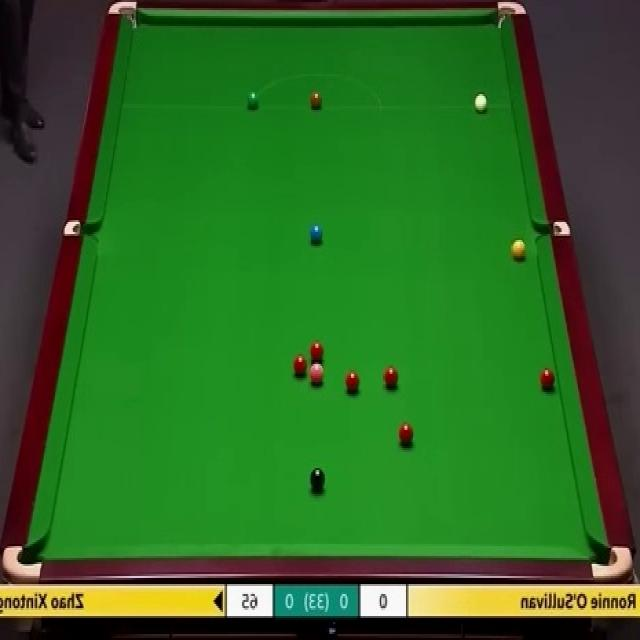black-ball: (309, 467, 325, 492)
blue-ball: (310, 224, 325, 244)
brown-ball: (310, 88, 322, 108)
green-ball: (246, 90, 260, 111)
pink-ball: (310, 363, 324, 385)
red-ball: (539, 365, 556, 393), (397, 421, 414, 447), (382, 365, 399, 388), (344, 371, 361, 391), (293, 355, 307, 377), (310, 340, 324, 361)
white-ball: (475, 91, 487, 115)
yellow-ball: (511, 239, 526, 262)
